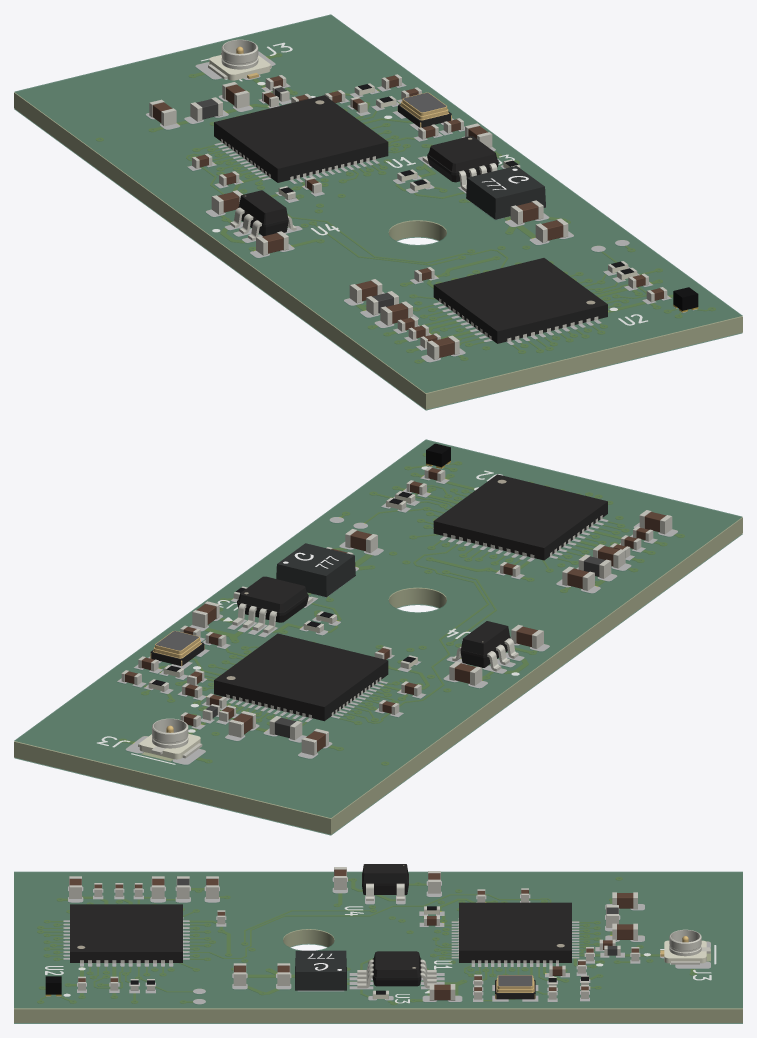
File: module.glb
3 views of the same model, one above another, from view 1: azimuth 30°, elevation 25°; view 2: azimuth 150°, elevation 25°; view 3: azimuth 270°, elevation 25° (orthographic). The views are drawn at different scales.
Parts seen in each view (by area): view 1: =>[0:1:1:52], =>[0:1:1:54], =>[0:1:1:17], =>[0:1:1:27], =>[0:1:1:48], =>[0:1:1:47], =>[0:1:1:31], =>[0:1:1:15], =>[0:1:1:7], =>[0:1:1:13], =>[0:1:1:29], =>[0:1:1:53] (+1 smaller); view 2: =>[0:1:1:52], =>[0:1:1:54], =>[0:1:1:17], =>[0:1:1:27], =>[0:1:1:48], =>[0:1:1:47], =>[0:1:1:31], =>[0:1:1:15], =>[0:1:1:7], =>[0:1:1:13], =>[0:1:1:29], =>[0:1:1:53]; view 3: =>[0:1:1:52], =>[0:1:1:54], =>[0:1:1:17], =>[0:1:1:27], =>[0:1:1:48], =>[0:1:1:9] (×10), =>[0:1:1:47], =>[0:1:1:15], =>[0:1:1:31], =>[0:1:1:7], =>[0:1:1:13], =>[0:1:1:29] (+4 smaller).
Boxes of the visible parts, x1,y1,x2,y2 form: =>[0:1:1:52]: [14, 14, 742, 392]; =>[0:1:1:54]: [14, 16, 742, 409]; =>[0:1:1:17]: [214, 95, 388, 182]; =>[0:1:1:27]: [433, 258, 607, 343]; =>[0:1:1:48]: [146, 51, 696, 362]; =>[0:1:1:47]: [96, 54, 715, 362]; =>[0:1:1:31]: [466, 166, 545, 219]; =>[0:1:1:15]: [422, 136, 498, 191]; =>[0:1:1:7]: [230, 190, 296, 240]; =>[0:1:1:13]: [208, 39, 271, 80]; =>[0:1:1:29]: [397, 92, 451, 127]; =>[0:1:1:53]: [14, 109, 742, 410]; =>[0:1:1:52]: [14, 439, 742, 817]; =>[0:1:1:54]: [14, 441, 742, 834]; =>[0:1:1:17]: [214, 633, 388, 721]; =>[0:1:1:27]: [433, 474, 607, 560]; =>[0:1:1:48]: [117, 463, 677, 764]; =>[0:1:1:47]: [119, 453, 684, 764]; =>[0:1:1:31]: [276, 543, 355, 597]; =>[0:1:1:15]: [232, 576, 313, 633]; =>[0:1:1:7]: [452, 621, 518, 671]; =>[0:1:1:13]: [138, 718, 202, 759]; =>[0:1:1:29]: [150, 630, 204, 666]; =>[0:1:1:53]: [14, 534, 742, 835]; =>[0:1:1:52]: [14, 871, 742, 1008]; =>[0:1:1:54]: [14, 873, 742, 1022]; =>[0:1:1:17]: [458, 902, 571, 963]; =>[0:1:1:27]: [70, 904, 183, 963]; =>[0:1:1:48]: [46, 877, 710, 1004]; =>[0:1:1:9] (×10): [69, 867, 637, 1000]; =>[0:1:1:47]: [37, 877, 695, 1004]; =>[0:1:1:15]: [357, 951, 436, 988]; =>[0:1:1:31]: [295, 950, 346, 990]; =>[0:1:1:7]: [362, 864, 408, 900]; =>[0:1:1:13]: [660, 929, 710, 964]; =>[0:1:1:29]: [495, 975, 535, 999].
Bounding box in the file's own units: 0.02 × 0.00462 × 0.045.
